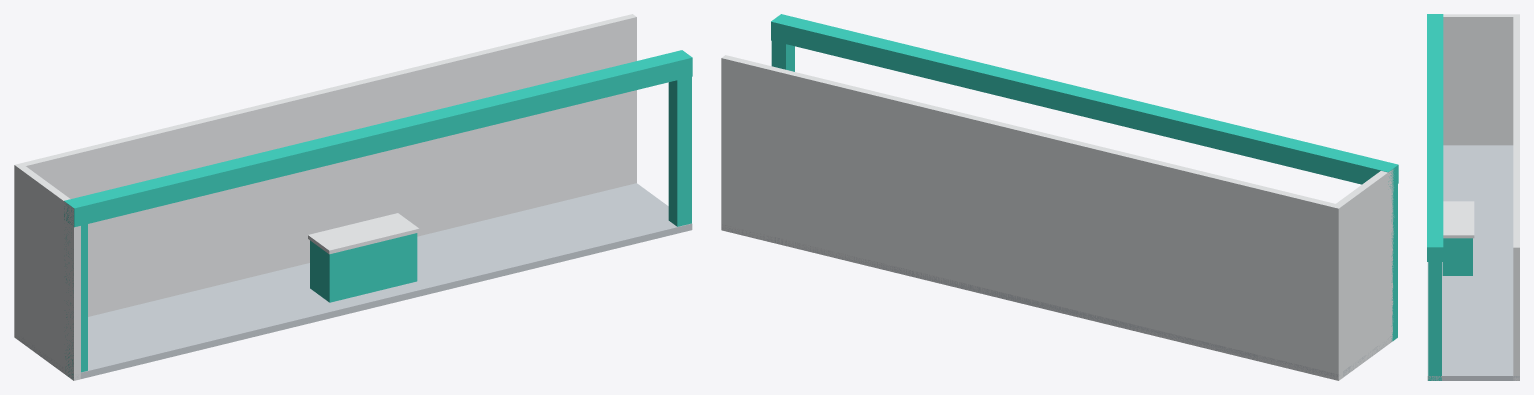
The picture shows the model from 3 angles, left to right: view 1: azimuth 30°, elevation 25°; view 2: azimuth 150°, elevation 25°; view 3: azimuth 270°, elevation 25°; orthographic projection. The views are drawn at different scales.
Parts seen in each view (by area): view 1: Exhibition Booth Concept; view 2: Exhibition Booth Concept; view 3: Exhibition Booth Concept.
Part boxes in pixels (x1=…): Exhibition Booth Concept: x1=14, y1=14, x2=692, y2=380; Exhibition Booth Concept: x1=721, y1=14, x2=1398, y2=380; Exhibition Booth Concept: x1=1427, y1=14, x2=1519, y2=380.
Size of the model in its own units: 12 by 3.2 by 2.01.
